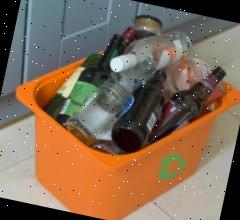glass: (34, 0, 233, 176)
